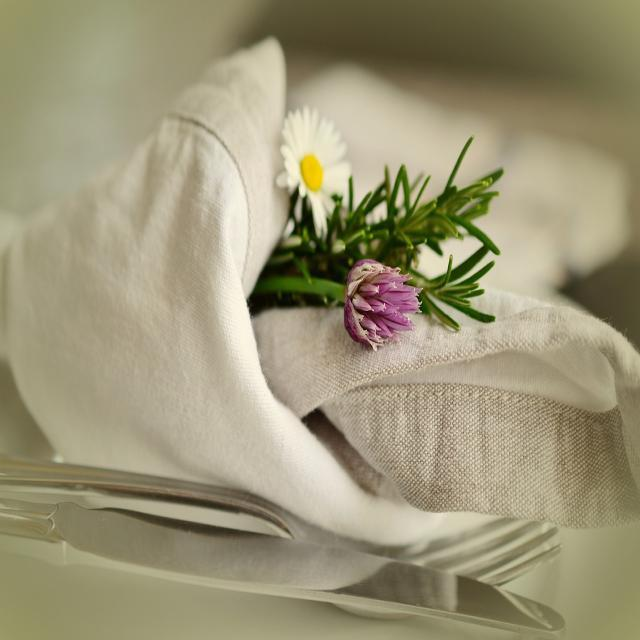Knife: (0, 499, 564, 632)
